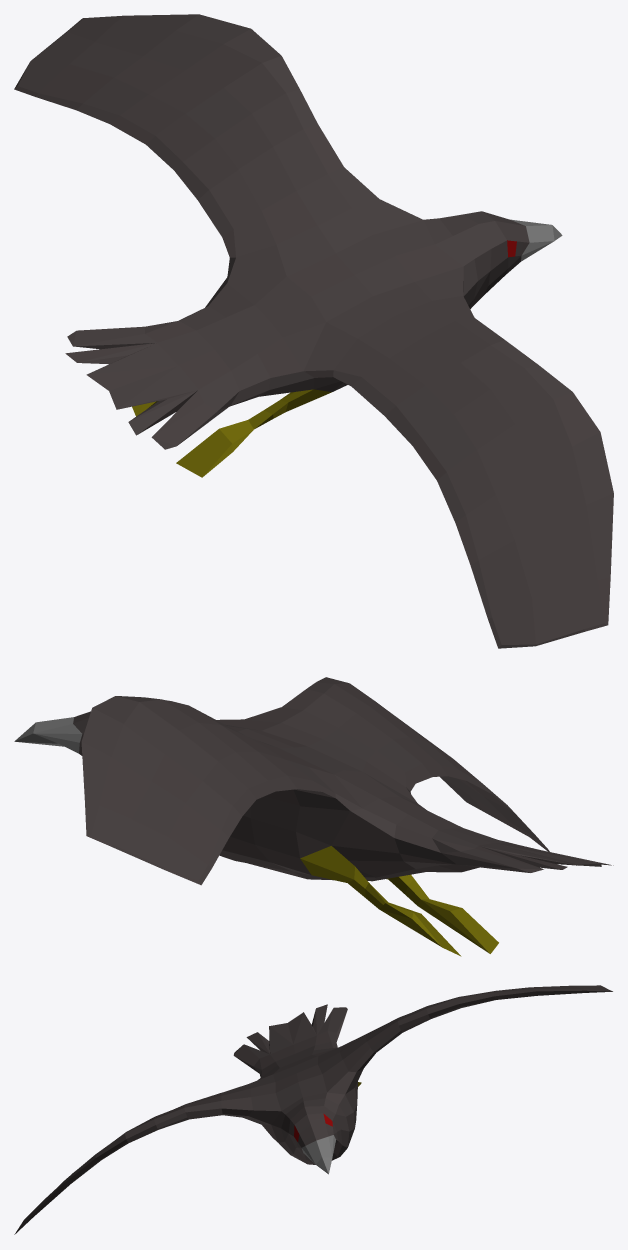
The model's file is justBird.glb.
3 renders of one model, top to bottom at view 1: azimuth 30°, elevation 25°; view 2: azimuth 150°, elevation 25°; view 3: azimuth 270°, elevation 25°, orthographic. The views are drawn at different scales.
Parts seen in each view (by area): view 1: bird; view 2: bird; view 3: bird.
Part boxes in pixels (x1,y1,x2,y2): bird: (14, 14, 613, 648); bird: (14, 677, 613, 956); bird: (14, 985, 612, 1234).
Size of the model in its own units: 203 by 139 by 308.
